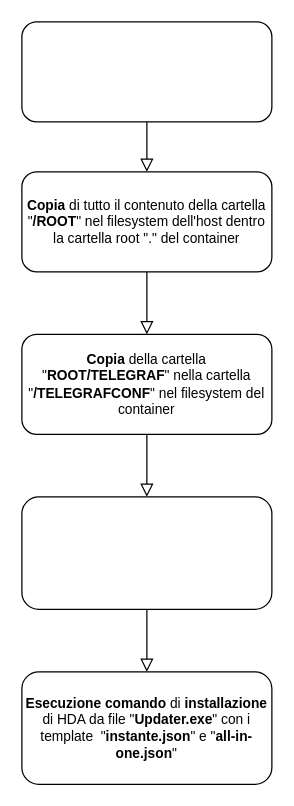
The diagram is 294 pixels wide and 806 high, and some of its shapes have lost their labels. The centre of each missing label's shape, as x and y in pixels:
Download immagine Windows ServerCore IIS: point (146, 71)
Spostamento nella cartella di lavoro " _/UPDATER " interna al container: point (146, 552)
